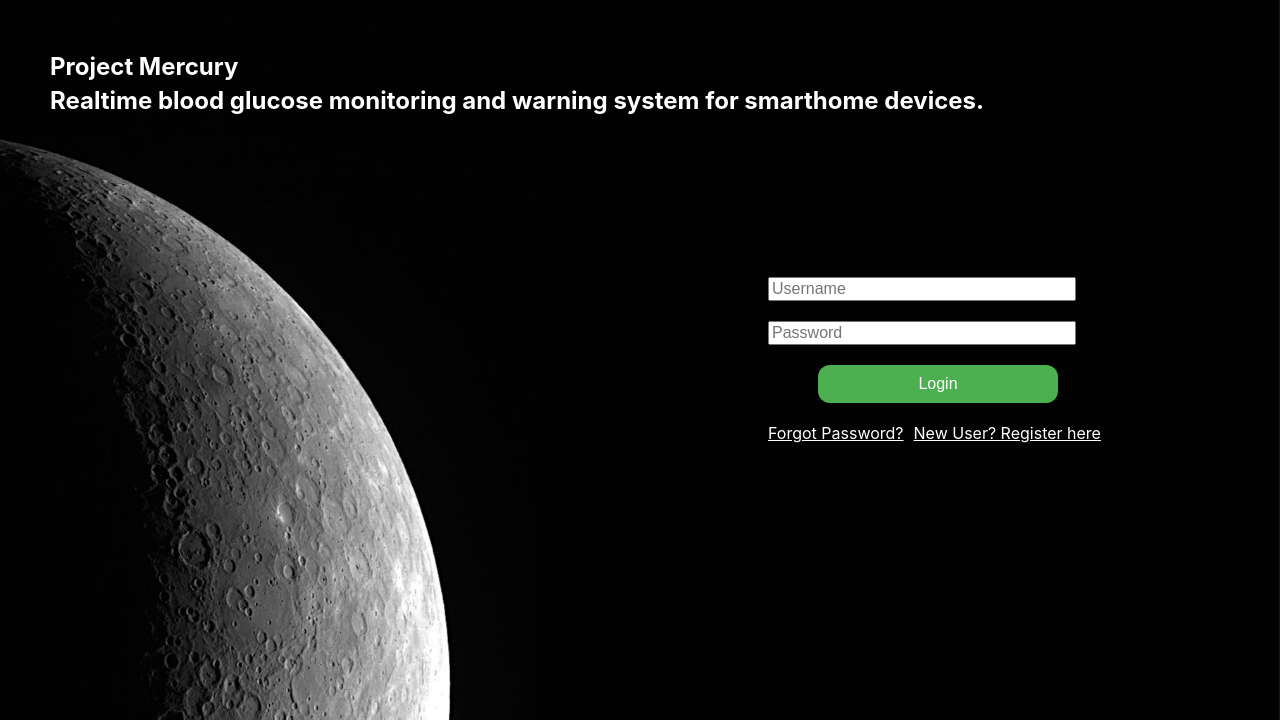
Test: Invalid Login
This screenshot has width=1280, height=720.
In the field with placeholder "Username": (922, 289) [768,277,1076,301], type "testuser"
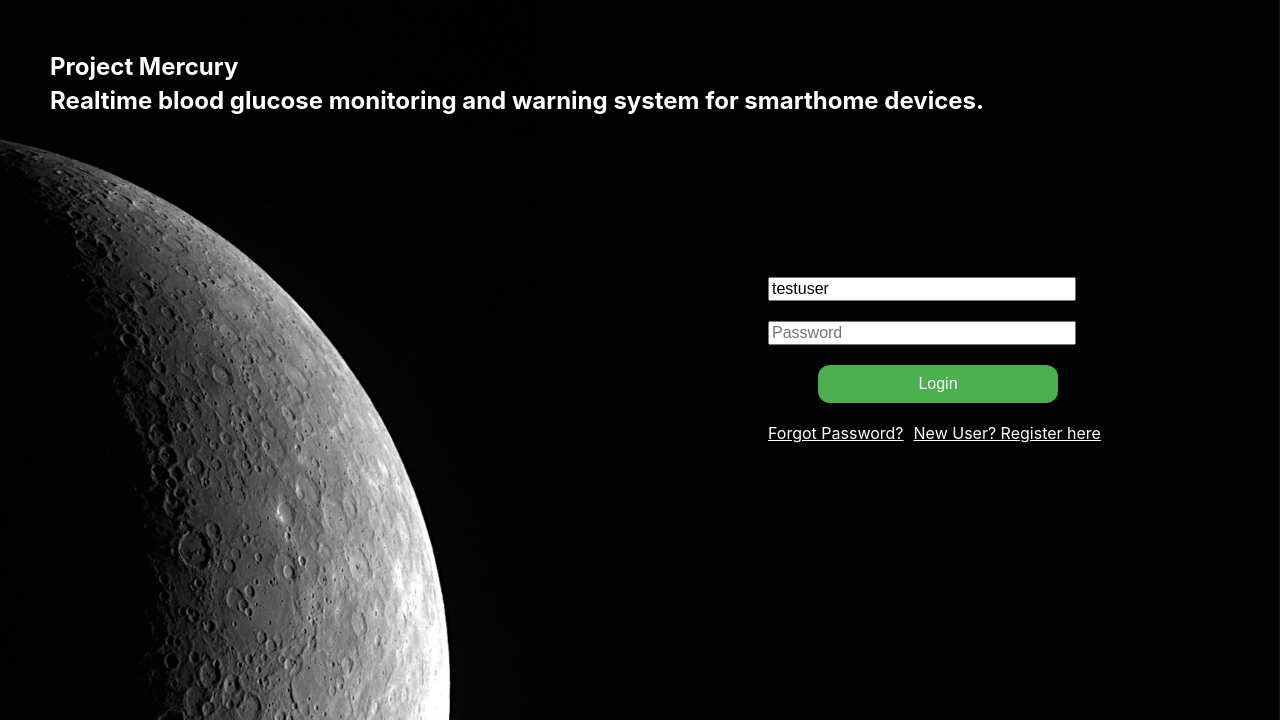
In the password field with placeholder "Password": (922, 333) [768,321,1076,345], type "testpassword"
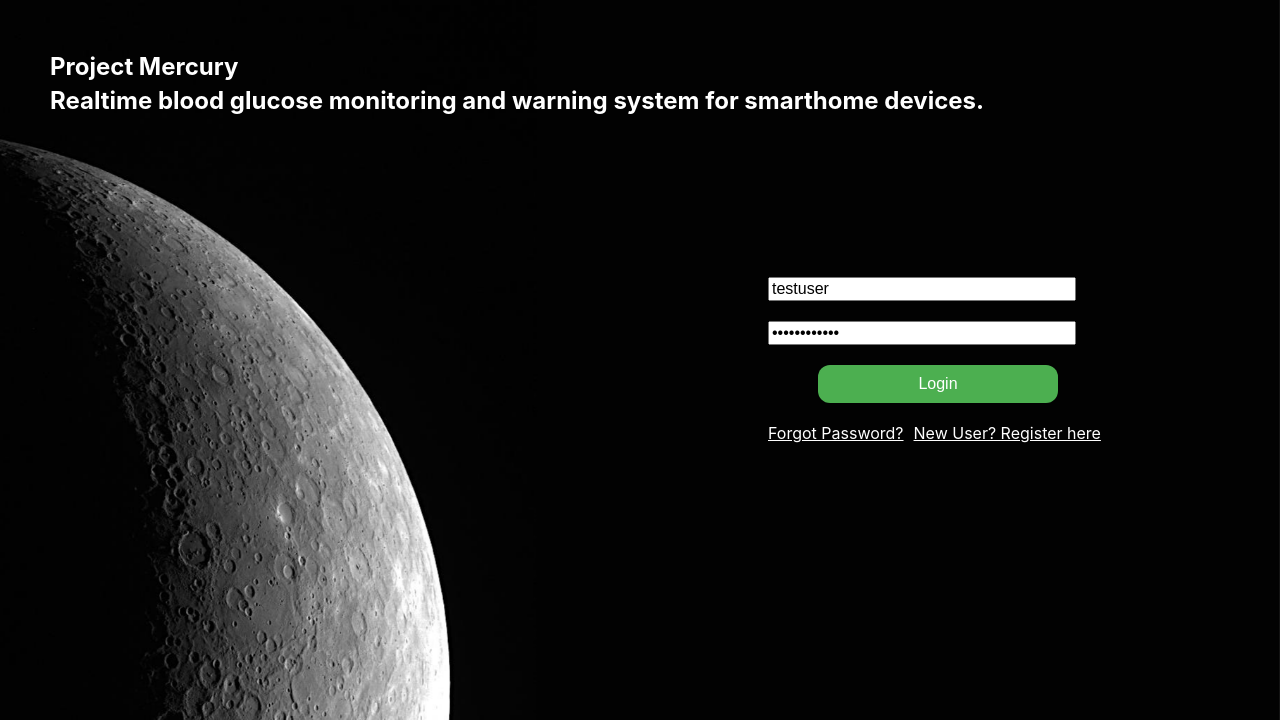
Click the button "Login": (938, 384) [818,365,1058,403]
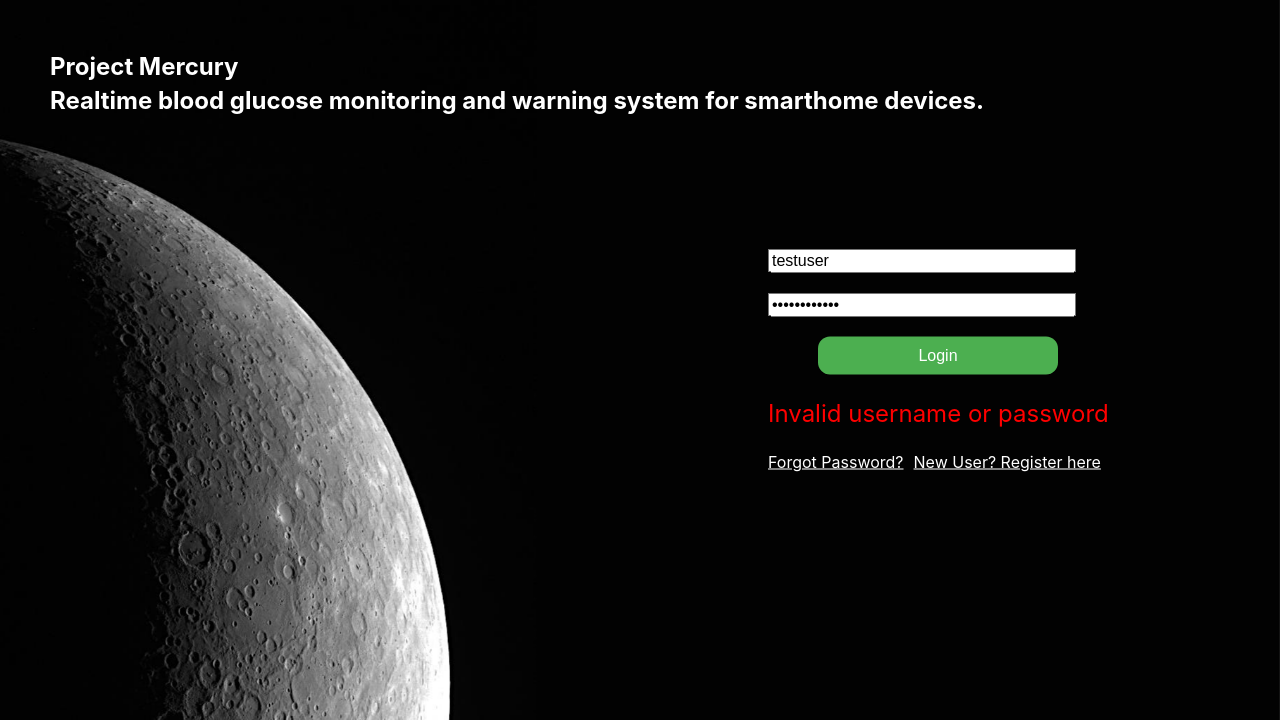
Expected: the text "Invalid username or password" is shown, [768,398,1152,428]
